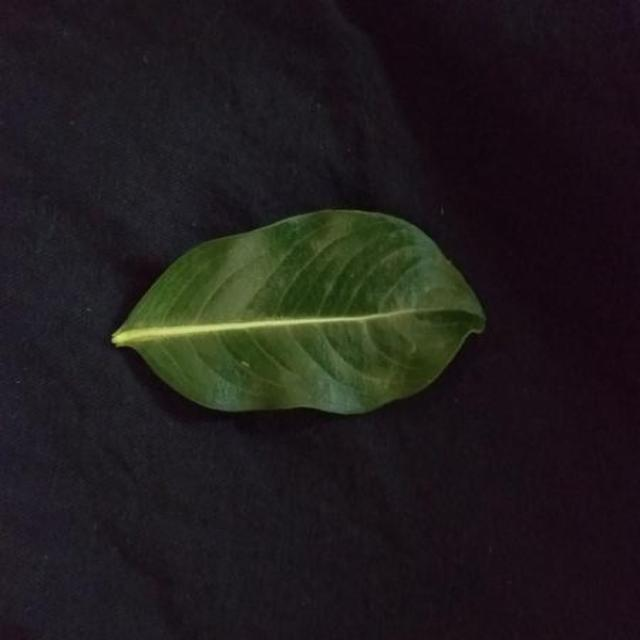catharanthus: (112, 210, 485, 414)
defectedcatharanthus: (127, 210, 482, 327)
